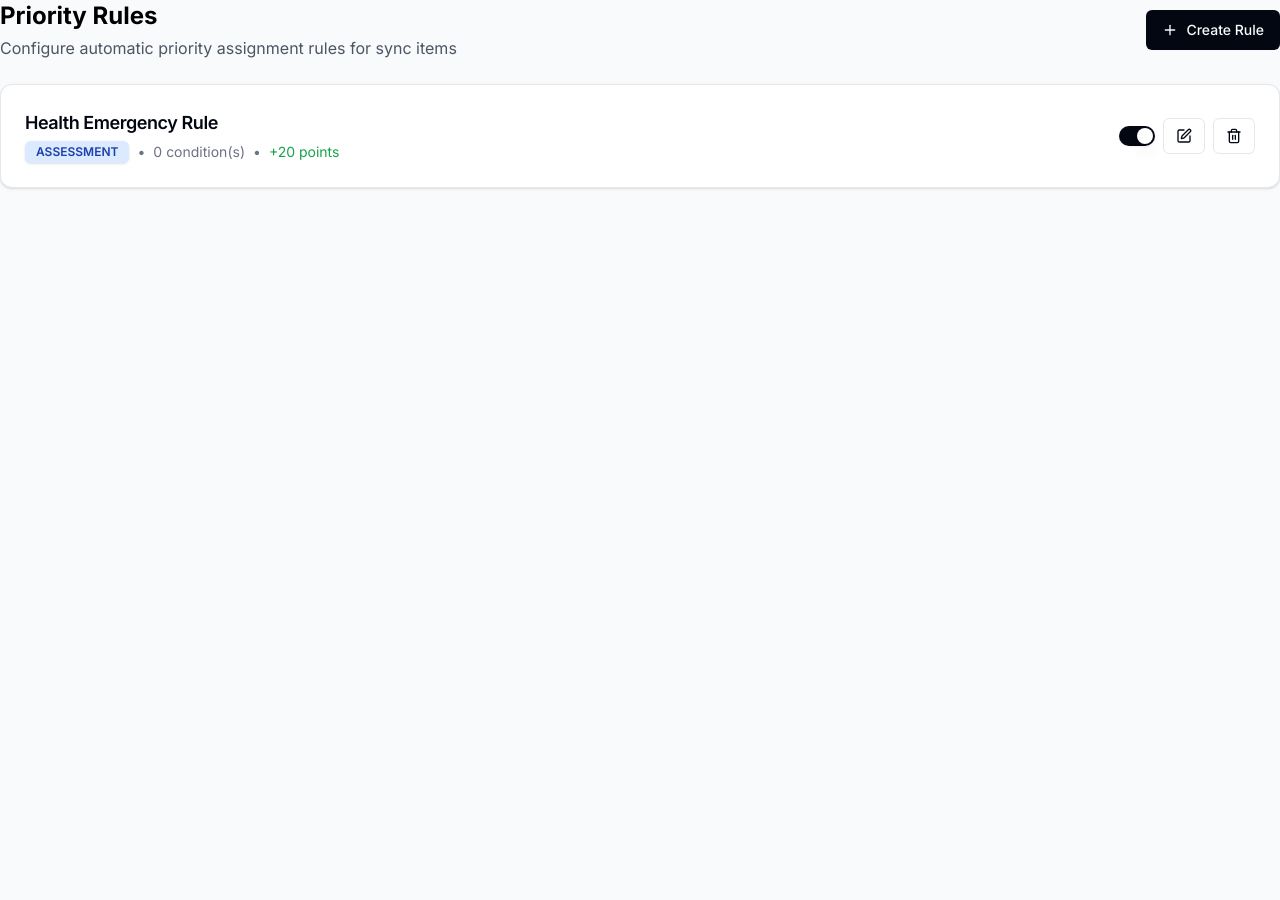
it: PriorityRuleManager › adds and removes conditions correctly
The width and height of the screenshot is (1280, 900).
# Open create modal
Click the button "Create Rule": (1213, 30) [1146,10,1279,50]
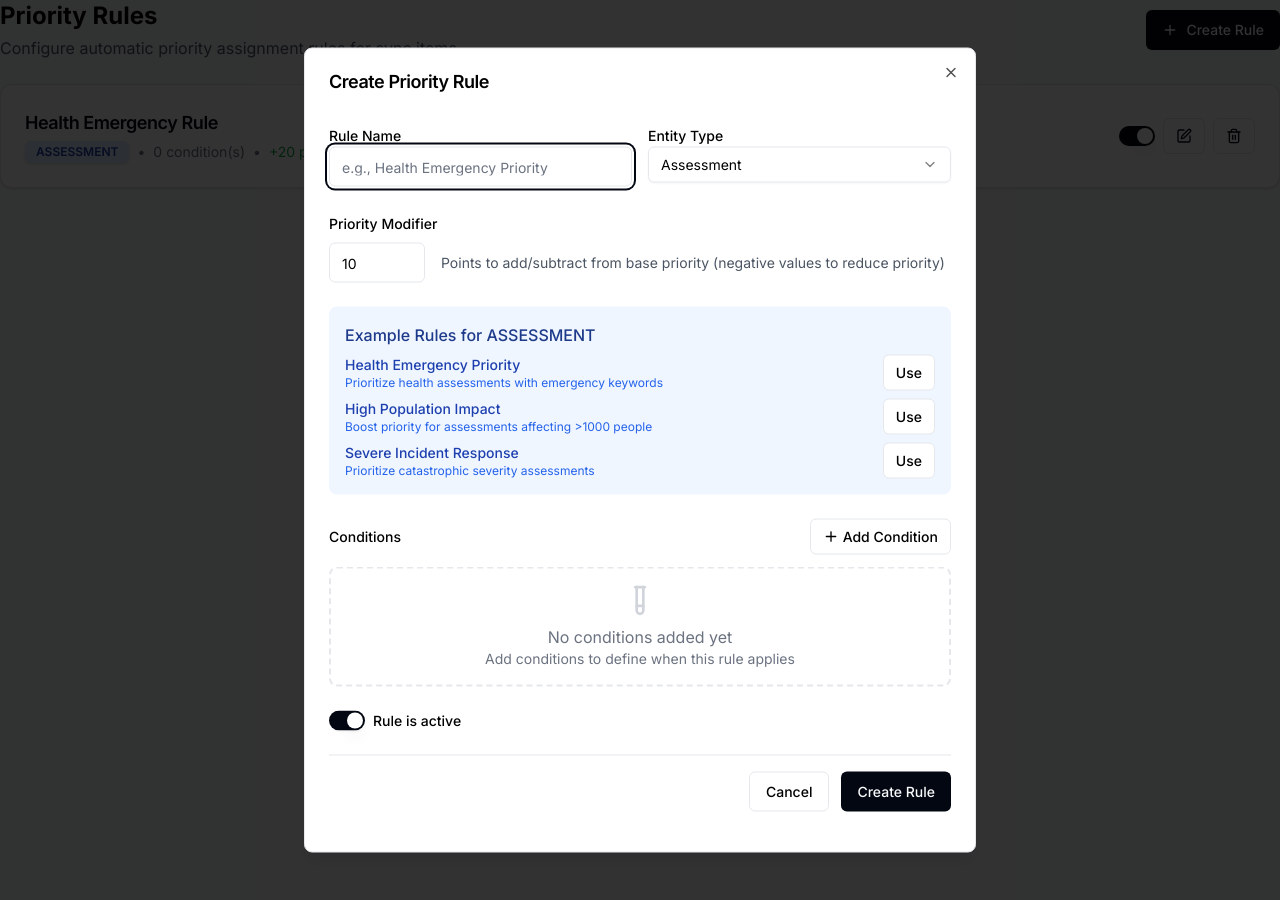
Expected: the button with test id "add-condition-btn" is shown
# Add a condition
Click the button with test id "add-condition-btn": (880, 536) [810,518,951,554]
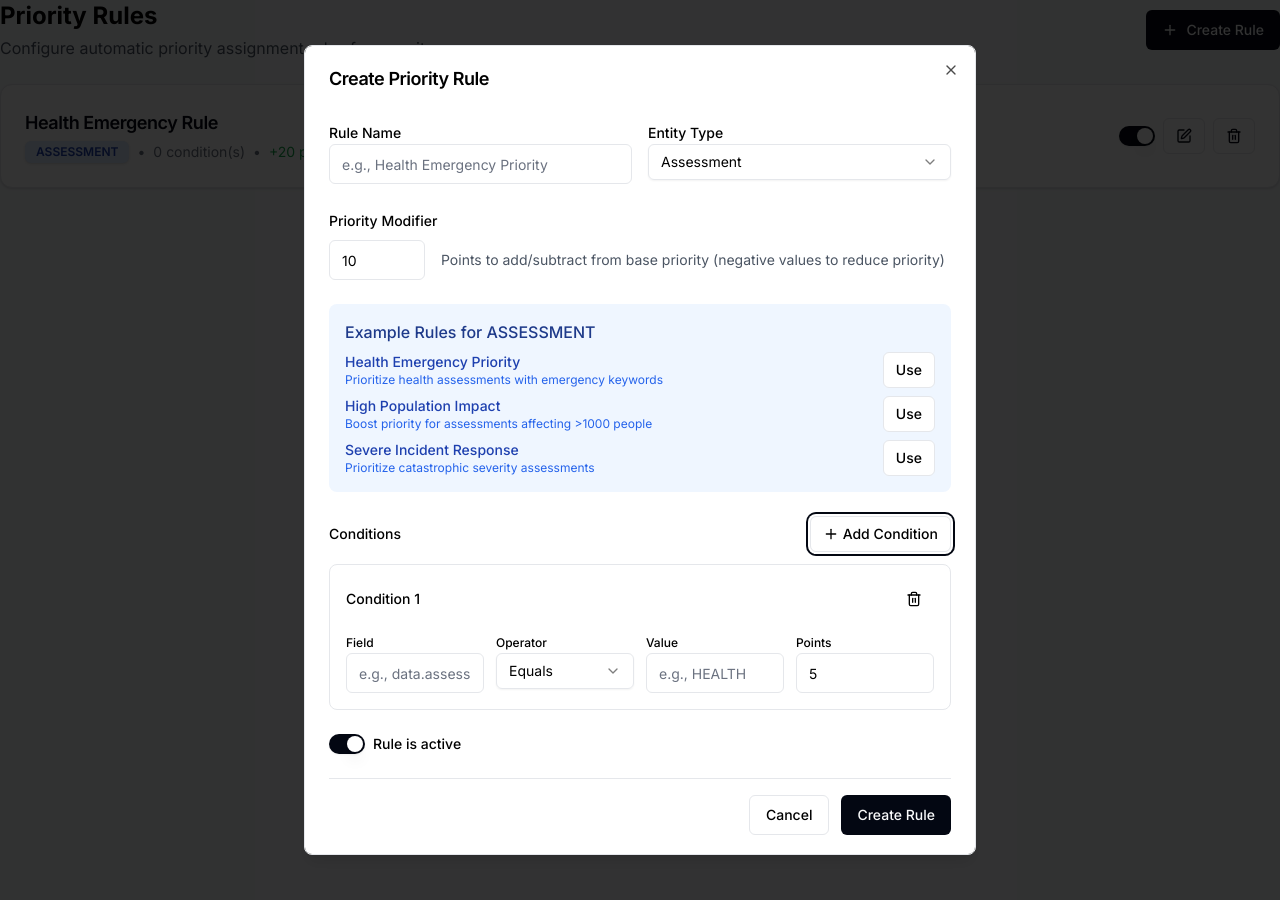
Expected: the text "Condition 1" is shown, [346,589,420,609]
# Remove the condition
Click the button with test id "remove-condition-0": (914, 599) [894,581,934,617]
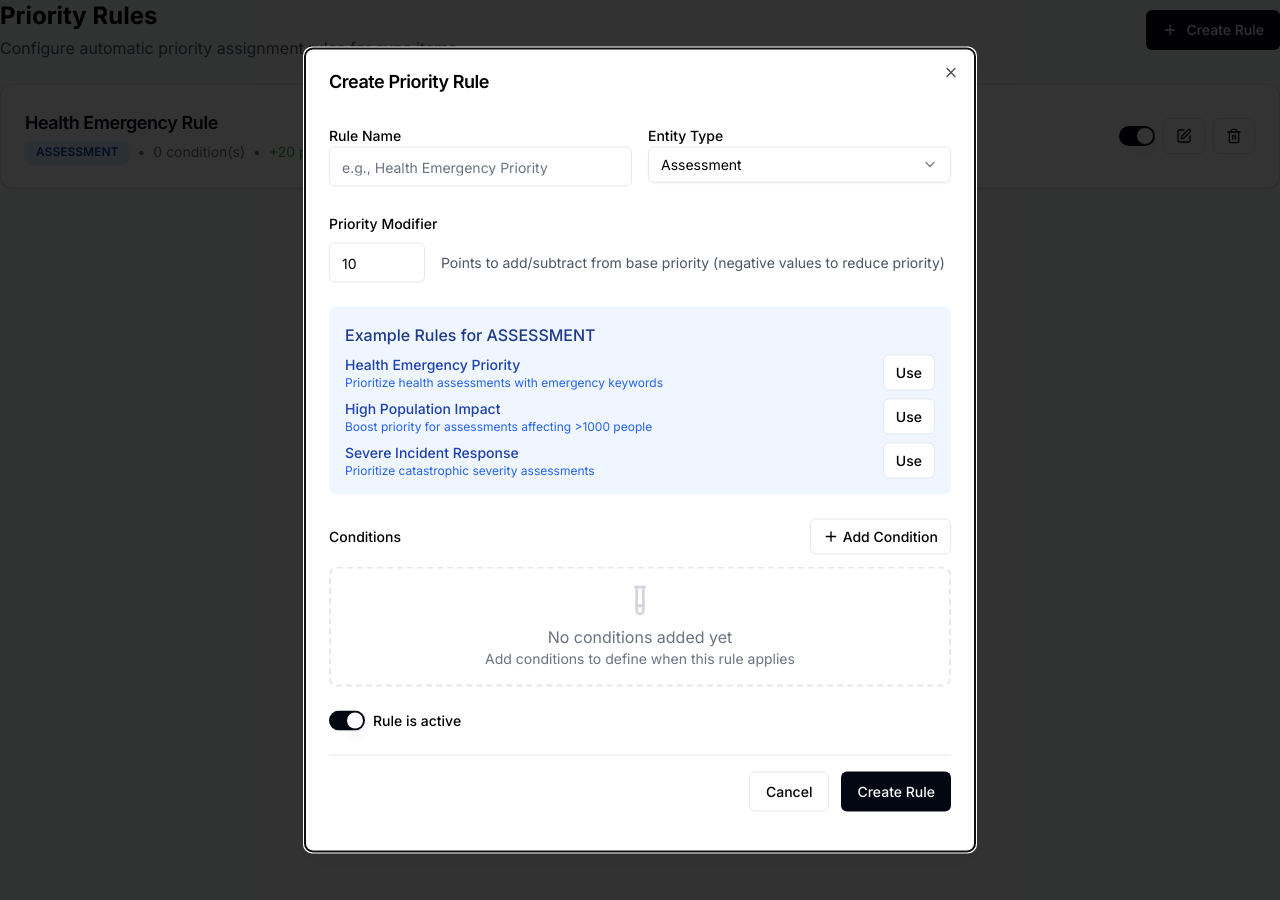
Expected: the element with test id "no-conditions-state" is shown, [329,566,951,686]
